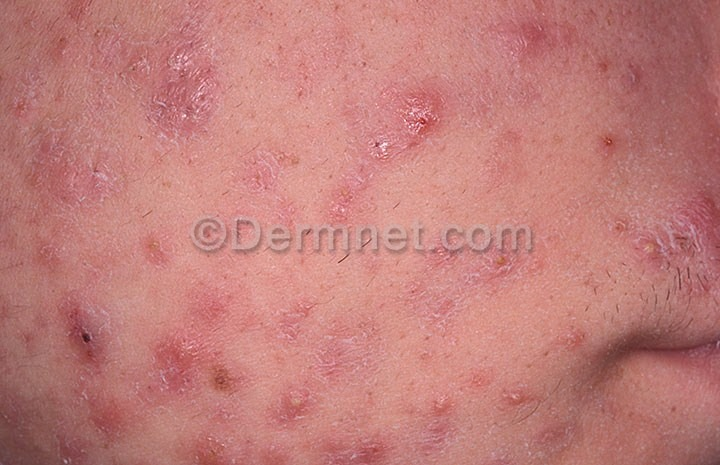Acne: (3, 8, 714, 447)
